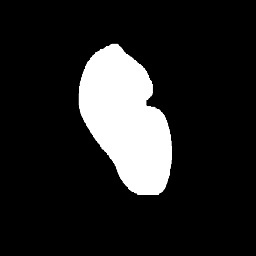mass: (76, 46, 166, 194)
